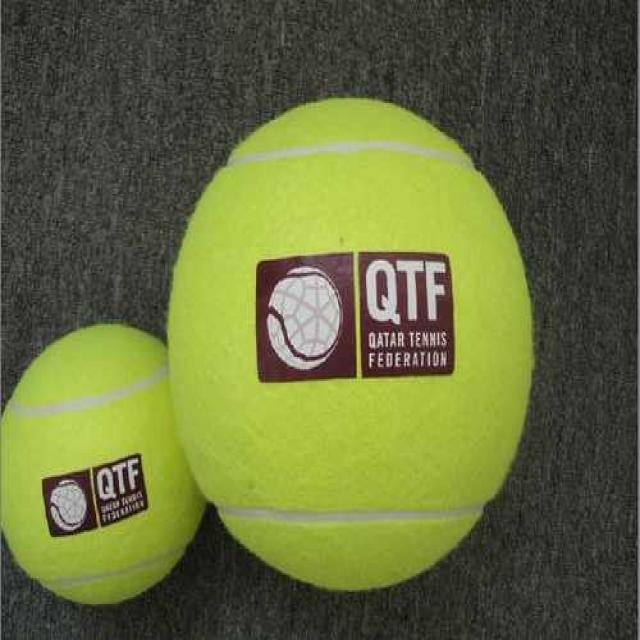Tennis_Ball: (177, 100, 536, 585), (1, 326, 197, 601)
